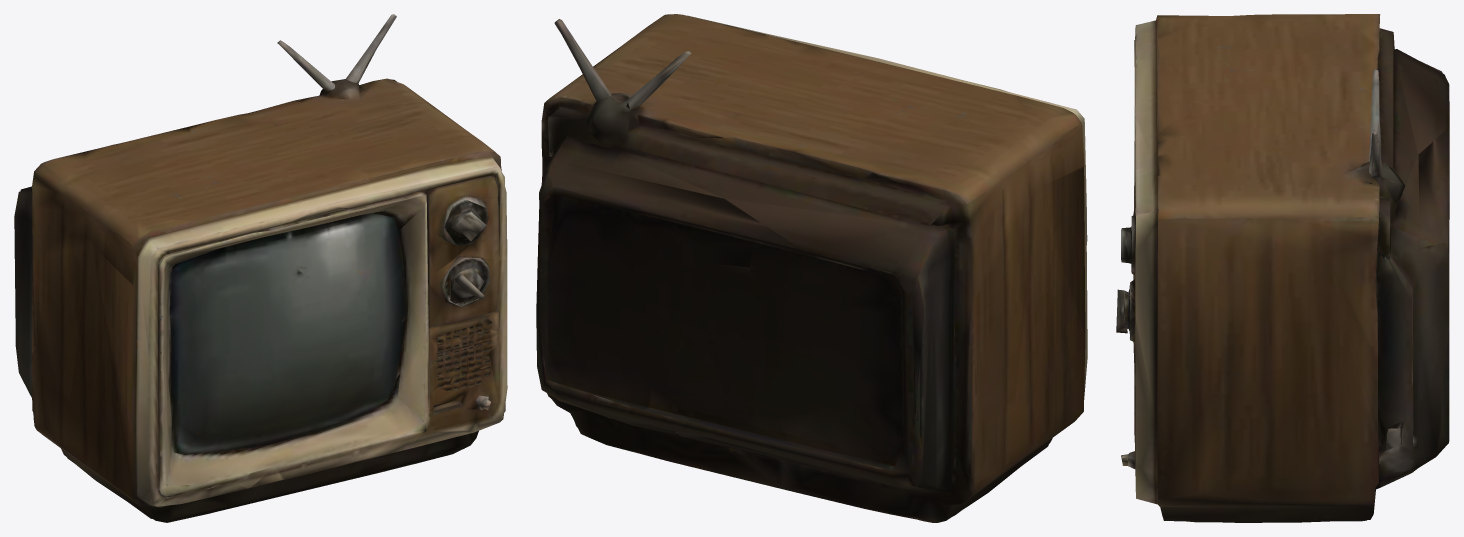
Rendered from prop_crt_e01.glb.
3 views of the same model, side by side, from view 1: azimuth 30°, elevation 25°; view 2: azimuth 150°, elevation 25°; view 3: azimuth 270°, elevation 25° (orthographic). The views are drawn at different scales.
Parts seen in each view (by area): view 1: geometry_0; view 2: geometry_0; view 3: geometry_0.
Boxes of the visible parts, x1,y1,x2,y2 form: geometry_0: (14,14,507,522); geometry_0: (536,14,1087,522); geometry_0: (1116,14,1449,522).
Size of the model in its own units: 1 by 0.9252 by 0.69.
Materials: 1 (1 with a texture image).
